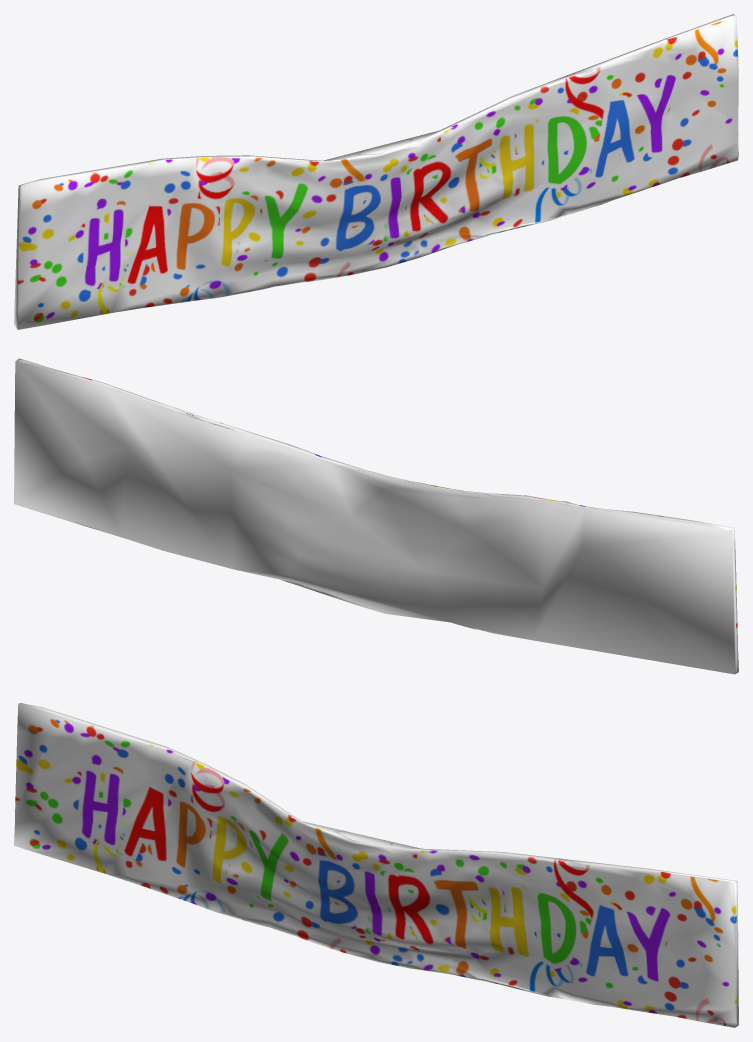
Rendered from banner_01.fbx.
The picture shows the model from 3 angles, top to bottom: view 1: azimuth 30°, elevation 25°; view 2: azimuth 150°, elevation 25°; view 3: azimuth 330°, elevation 25°; orthographic projection.
Parts seen in each view (by area): view 1: banner_01; view 2: banner_01; view 3: banner_01.
Boxes of the visible parts, <box> form: banner_01: <box>14,14,738,329</box>; banner_01: <box>14,358,738,674</box>; banner_01: <box>14,703,738,1027</box>.
Size of the model in its own units: 293 by 65.91 by 14.08.
